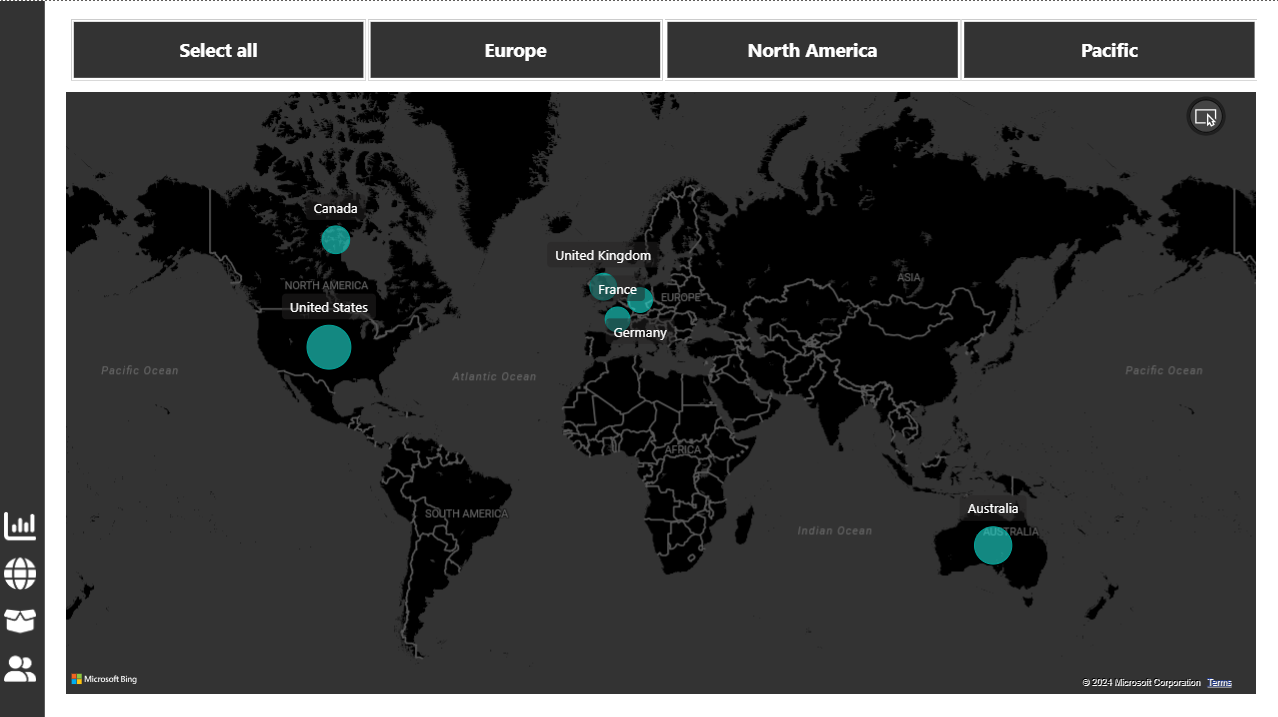

This screenshot's page, from the dashboard's own definition file:
{"tool":"powerbi","page":{"name":"Map","canvas":[1280,720],"ordinal":1},"visuals":[{"type":"shape","box":[0,0,45,720],"z":0},{"type":"actionButton","box":[0,505,45.2,40.4],"z":0,"group":"g1"},{"type":"map","fields":{"Category":["Territory Lookup.Country"],"Size":["Measure Table.Total Orders"]},"box":[61.7,86.4,1200,611.1],"z":1000},{"type":"actionButton","box":[0,552.7,45.2,40.4],"z":1000,"group":"g1"},{"type":"slicer","fields":{"Values":["Territory Lookup.Continent"]},"box":[44.4,11.1,1235.8,75.3],"z":2000},{"type":"actionButton","box":[0,600.4,45.2,40.4],"z":2000,"group":"g1"},{"type":"group","id":"g1","title":"Navigation Buttons","box":[0,505,45.2,183.4],"z":3000},{"type":"actionButton","box":[0,648.1,45.2,40.4],"z":3000,"group":"g1"}]}

Visuals, with their boxes on the page's 1280x720 design canvas (x1, y1, x2, y2). These are canvas units, not pixel positions in the 1278x717 screenshot, which may show the page scaled, cropped or inside an application window:
shape: {"left": 0, "top": 0, "right": 45, "bottom": 720}
actionButton: {"left": 0, "top": 505, "right": 45, "bottom": 545}
map - Territory Lookup.Country x Measure Table.Total Orders: {"left": 62, "top": 86, "right": 1262, "bottom": 698}
actionButton: {"left": 0, "top": 553, "right": 45, "bottom": 593}
slicer - Territory Lookup.Continent: {"left": 44, "top": 11, "right": 1280, "bottom": 86}
actionButton: {"left": 0, "top": 600, "right": 45, "bottom": 641}
"Navigation Buttons" group: {"left": 0, "top": 505, "right": 45, "bottom": 688}
actionButton: {"left": 0, "top": 648, "right": 45, "bottom": 688}
